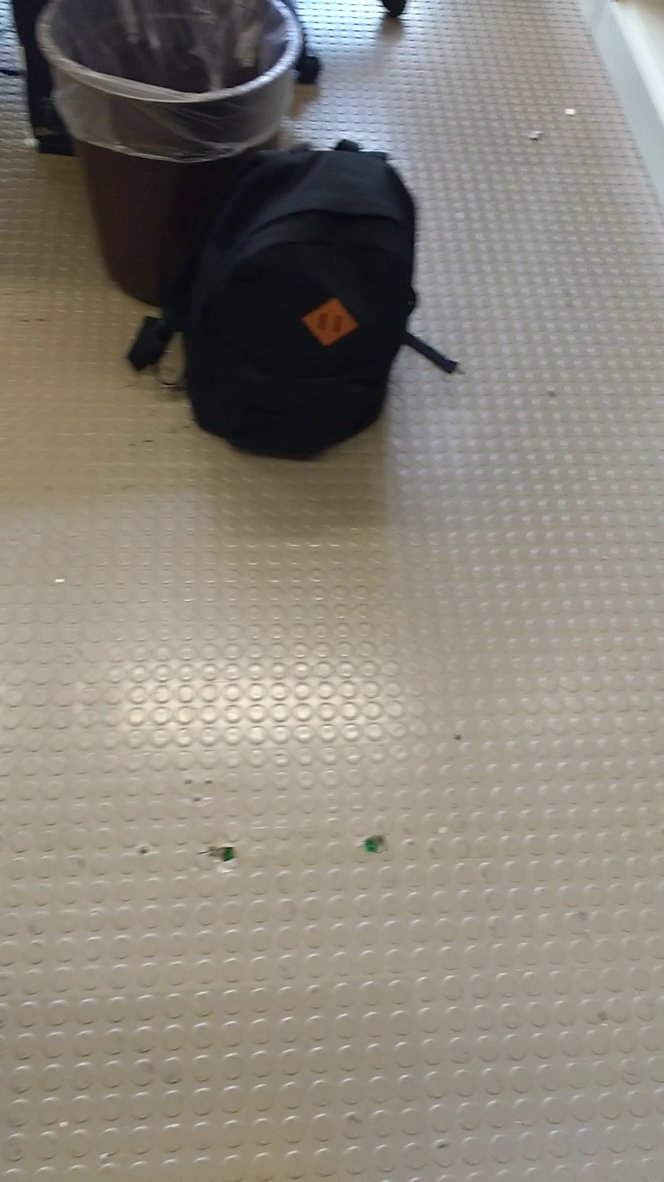bag: (116, 124, 463, 470)
bin: (31, 1, 312, 222)
